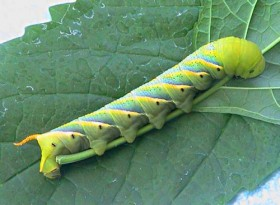Pest! (nettle_caterpillar): (35, 49, 248, 167)
